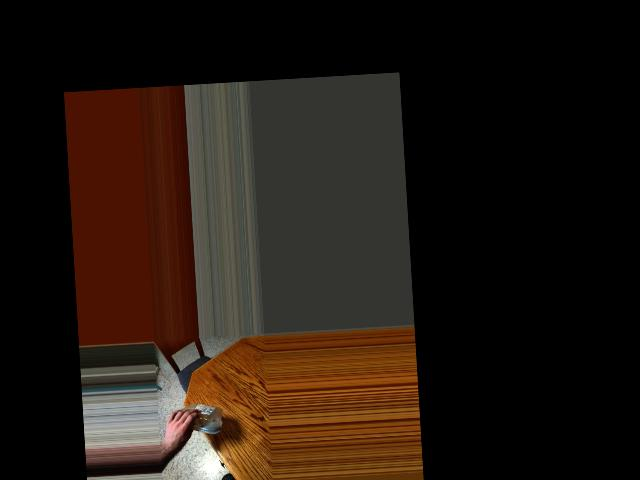cheese: (169, 401, 215, 440)
